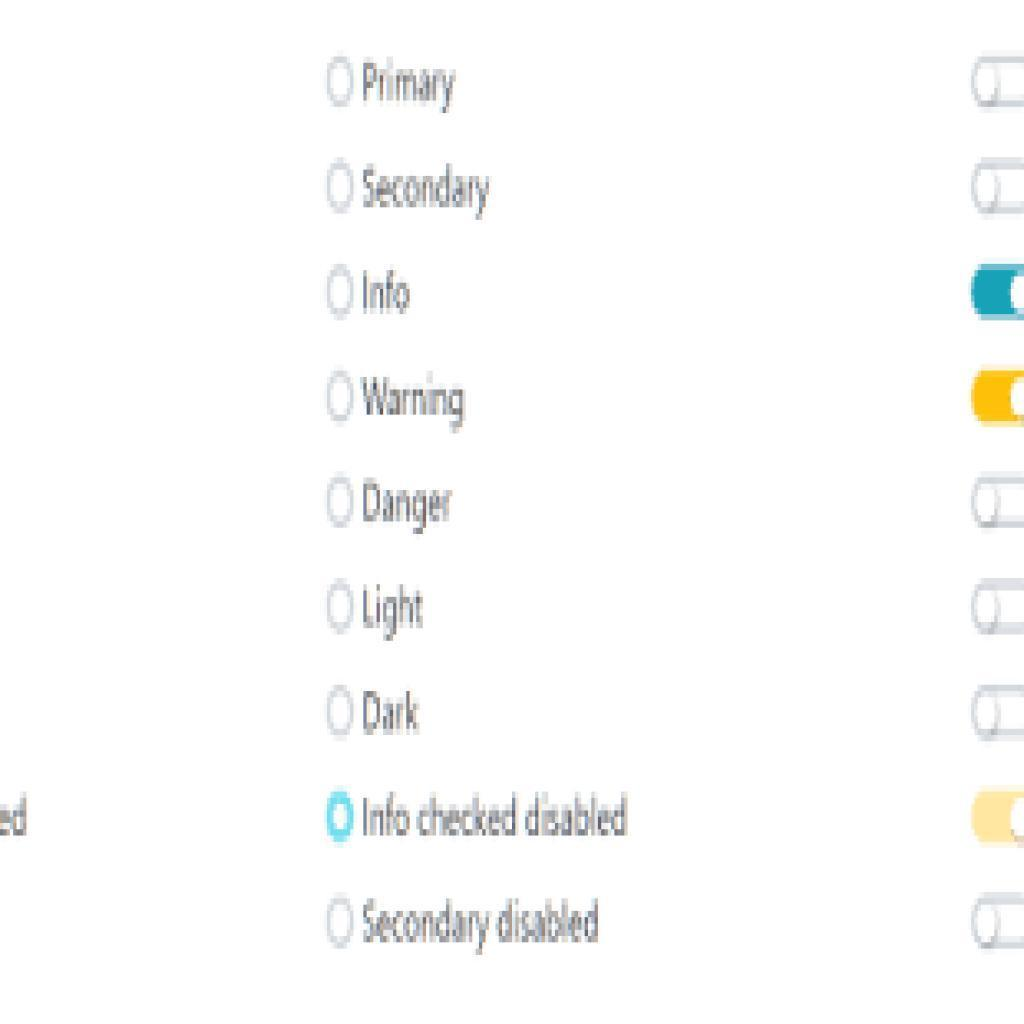radio: (321, 888, 363, 951), (323, 784, 359, 853), (320, 682, 360, 740), (323, 369, 361, 426), (324, 261, 361, 319), (326, 55, 358, 120), (323, 474, 357, 533), (323, 160, 357, 217), (323, 576, 357, 631)
